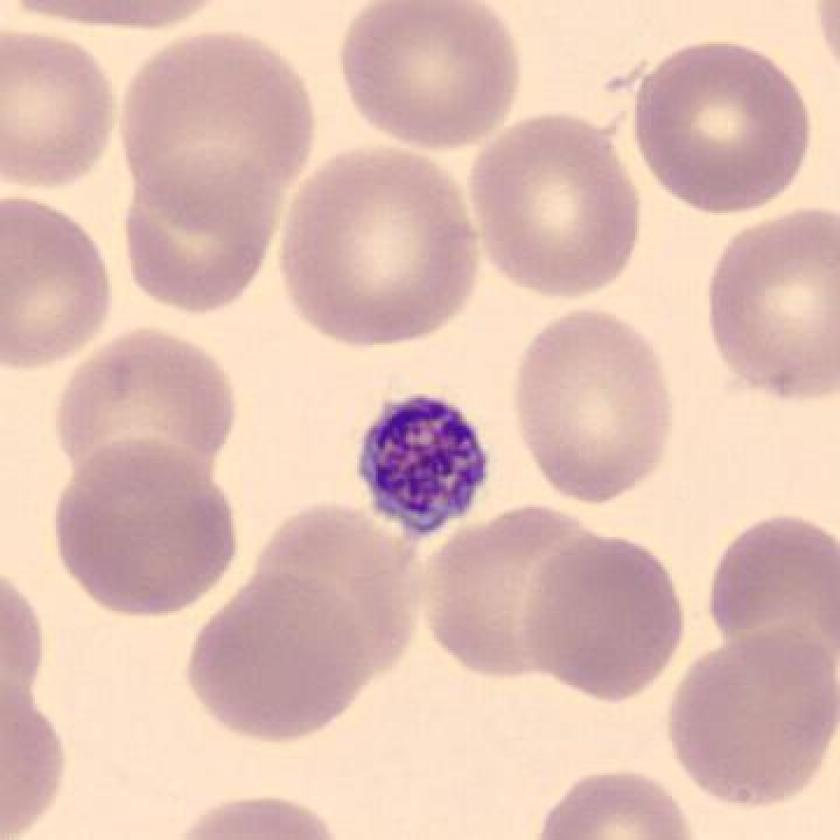platelets: (351, 390, 500, 545)
